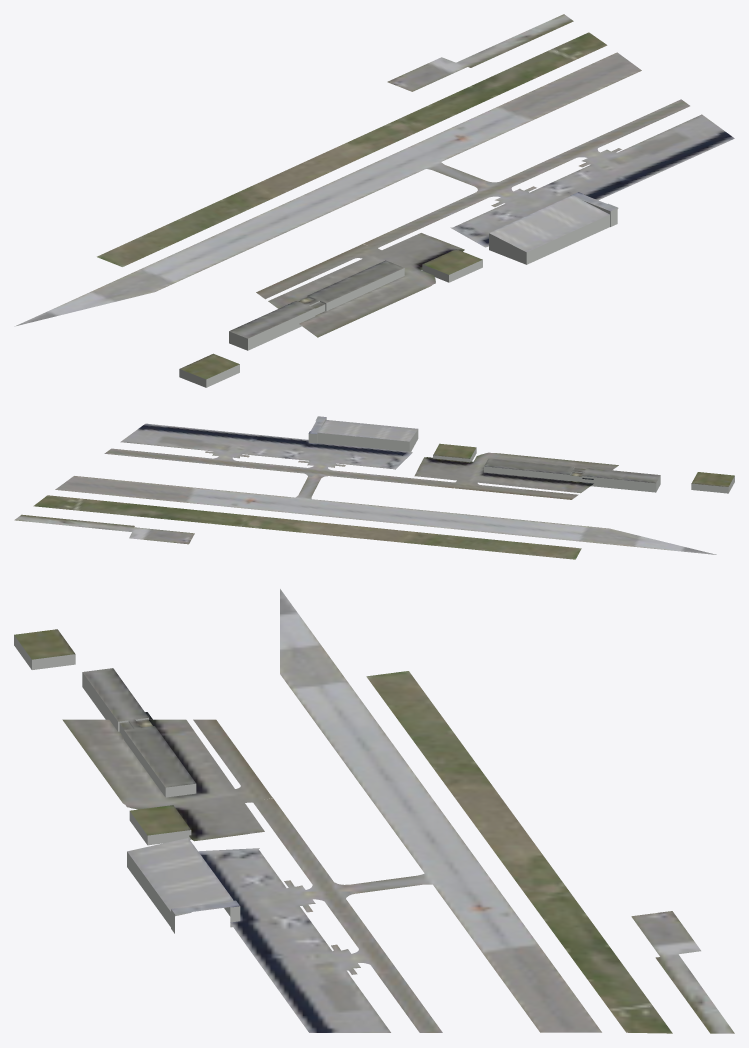
Rendered from LSGS_-1_-1.glb.
The picture shows the model from 3 angles, top to bottom: view 1: azimuth 30°, elevation 25°; view 2: azimuth 150°, elevation 25°; view 3: azimuth 270°, elevation 25°; orthographic projection. The views are drawn at different scales.
Visible parts, largest first — view 1: pavement_LSGS_pavement_5182_2237, pavement_LSGS_pavement_5182_2236, pavement_LSGS_pavement_5181_2237, building_66f9f349d5141dc0, building_2f5f53cf2f249935, building_fb8dabd460673e87, building_5e087e078b1fc73d, building_f50d654e683eb8c1, building_921936fec5ef3e87; view 2: pavement_LSGS_pavement_5182_2237, pavement_LSGS_pavement_5182_2236, pavement_LSGS_pavement_5181_2237, building_2f5f53cf2f249935, building_66f9f349d5141dc0, building_5e087e078b1fc73d, building_fb8dabd460673e87, building_f50d654e683eb8c1, building_921936fec5ef3e87, building_1f066dd0e909c971; view 3: pavement_LSGS_pavement_5182_2237, pavement_LSGS_pavement_5182_2236, pavement_LSGS_pavement_5181_2237, building_66f9f349d5141dc0, building_2f5f53cf2f249935, building_5e087e078b1fc73d, building_921936fec5ef3e87, building_f50d654e683eb8c1, building_fb8dabd460673e87.
Boxes of the visible parts, <box> form: pavement_LSGS_pavement_5182_2237: <box>164,14,734,263</box>; pavement_LSGS_pavement_5182_2236: <box>256,164,677,337</box>; pavement_LSGS_pavement_5181_2237: <box>14,226,216,326</box>; building_66f9f349d5141dc0: <box>489,192,617,252</box>; building_2f5f53cf2f249935: <box>229,260,403,338</box>; building_fb8dabd460673e87: <box>489,194,618,264</box>; building_5e087e078b1fc73d: <box>229,268,404,350</box>; building_f50d654e683eb8c1: <box>422,249,482,274</box>; building_921936fec5ef3e87: <box>180,353,239,379</box>; pavement_LSGS_pavement_5182_2237: <box>14,423,541,552</box>; pavement_LSGS_pavement_5182_2236: <box>207,429,618,499</box>; pavement_LSGS_pavement_5181_2237: <box>501,522,716,559</box>; building_2f5f53cf2f249935: <box>484,458,660,483</box>; building_66f9f349d5141dc0: <box>308,416,417,441</box>; building_5e087e078b1fc73d: <box>484,466,660,492</box>; building_fb8dabd460673e87: <box>308,418,418,451</box>; building_f50d654e683eb8c1: <box>433,443,476,458</box>; building_921936fec5ef3e87: <box>691,472,734,486</box>; building_1f066dd0e909c971: <box>691,476,734,493</box>; pavement_LSGS_pavement_5182_2237: <box>280,719,734,1033</box>; pavement_LSGS_pavement_5182_2236: <box>62,719,279,991</box>; pavement_LSGS_pavement_5181_2237: <box>280,589,444,720</box>; building_66f9f349d5141dc0: <box>127,838,239,914</box>; building_2f5f53cf2f249935: <box>82,668,195,787</box>; building_5e087e078b1fc73d: <box>82,672,196,797</box>; building_921936fec5ef3e87: <box>14,629,74,659</box>; building_f50d654e683eb8c1: <box>130,805,190,835</box>; building_fb8dabd460673e87: <box>127,852,240,933</box>.
Bounding box in the file's own units: 709 × 16.23 × 485.
Materials: 3 (2 with a texture image).
